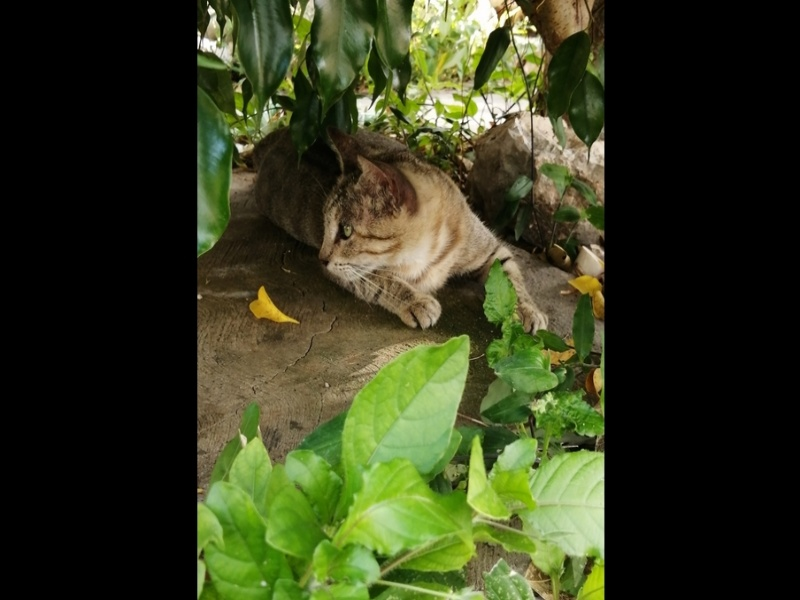cat: (256, 113, 553, 341)
